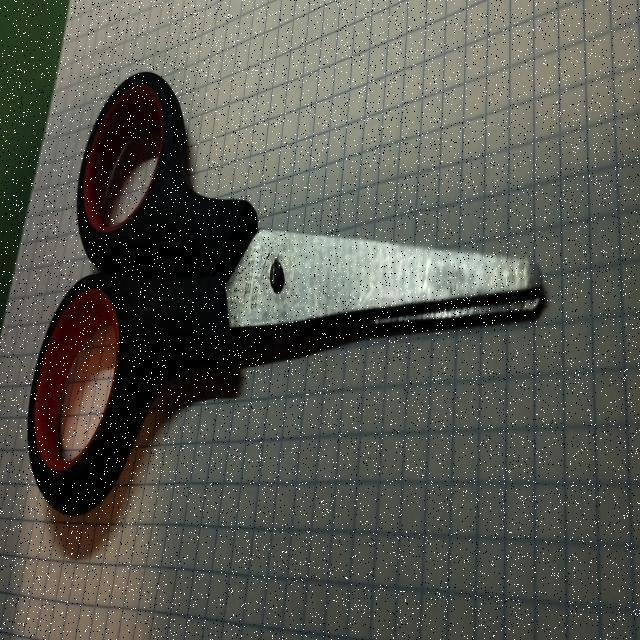scissors: (22, 64, 548, 524)
